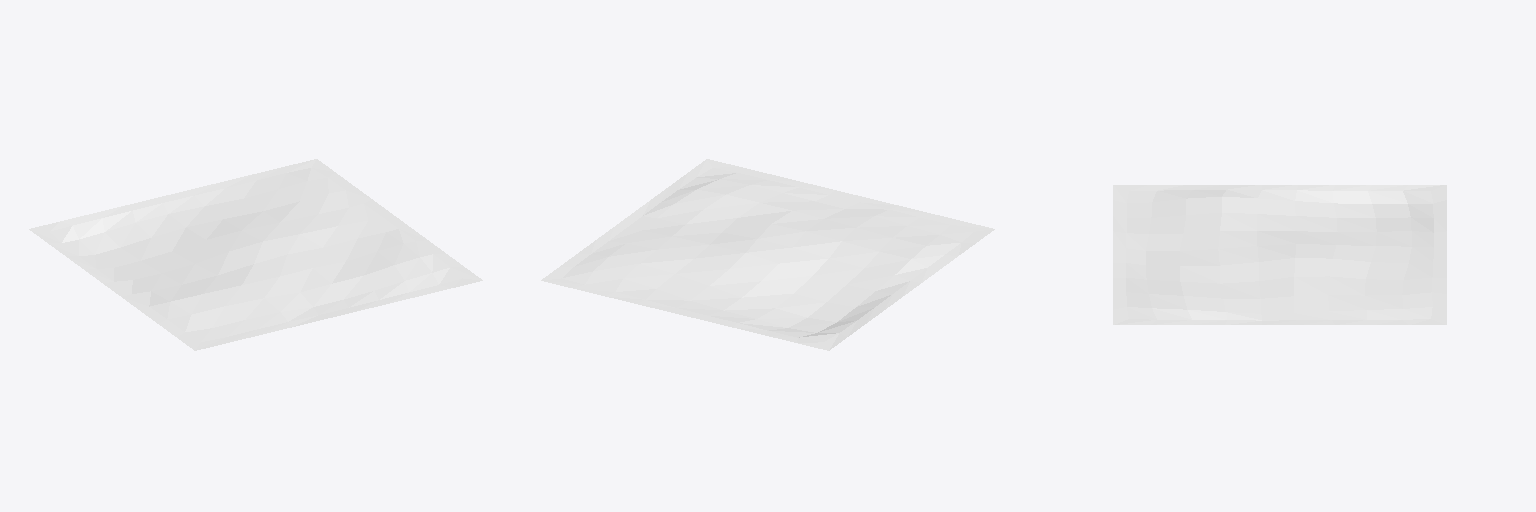
Rendered from ground.obj.
3 renders of one model, left to right at view 1: azimuth 30°, elevation 25°; view 2: azimuth 150°, elevation 25°; view 3: azimuth 270°, elevation 25°, orthographic.
Visible parts, largest first — view 1: Grid; view 2: Grid; view 3: Grid.
Boxes of the visible parts, x1=… form: Grid: x1=29, y1=159, x2=482, y2=350; Grid: x1=541, y1=159, x2=994, y2=350; Grid: x1=1113, y1=185, x2=1446, y2=324.
Bounding box in the file's own units: 14.51 × 0.5051 × 14.51.